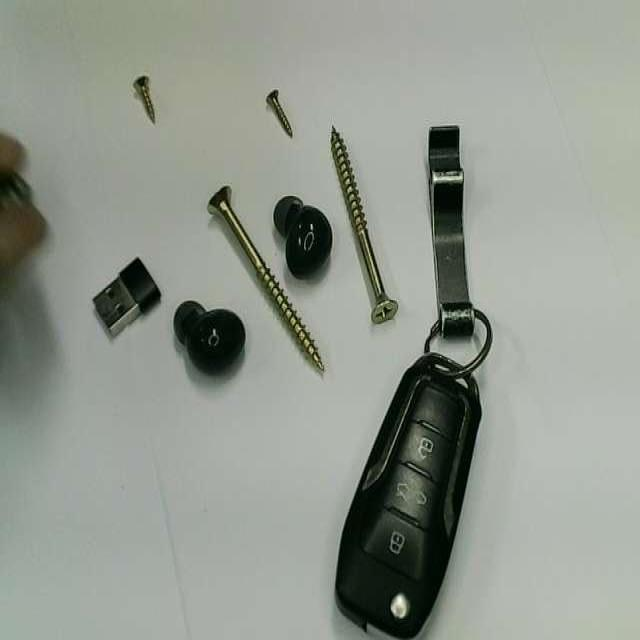Parafuso: (208, 186, 323, 370), (331, 127, 397, 323), (266, 90, 292, 138), (134, 76, 155, 123)
